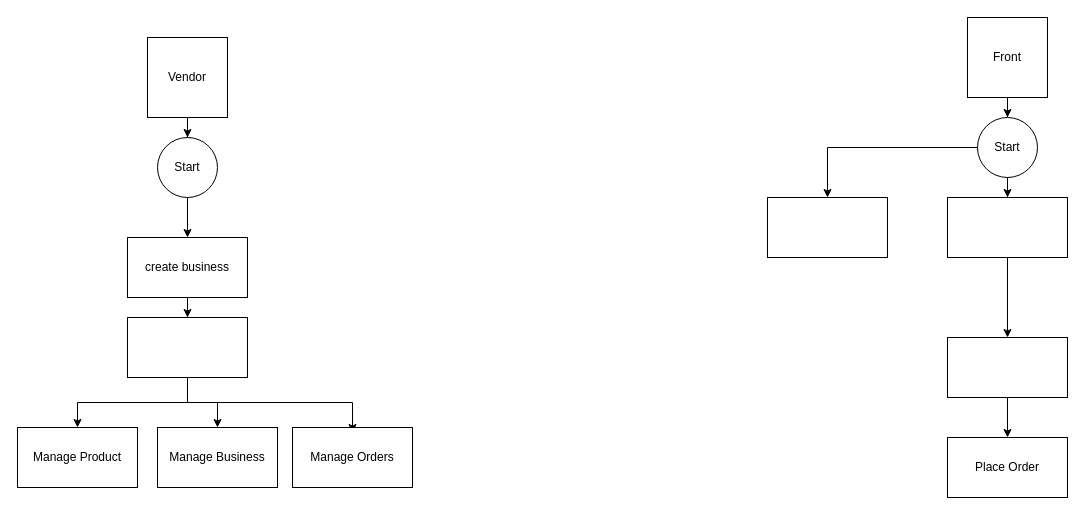
Some shapes in this 1085 by 515 pixel diagram are drawn without their labels. Each missing label, with the box of its shape:
Add product to cart: (946, 336, 1068, 398)
Manage Profile: (766, 196, 888, 258)
Vendor Dashboard: (126, 316, 248, 378)
View business product: (946, 196, 1068, 258)
